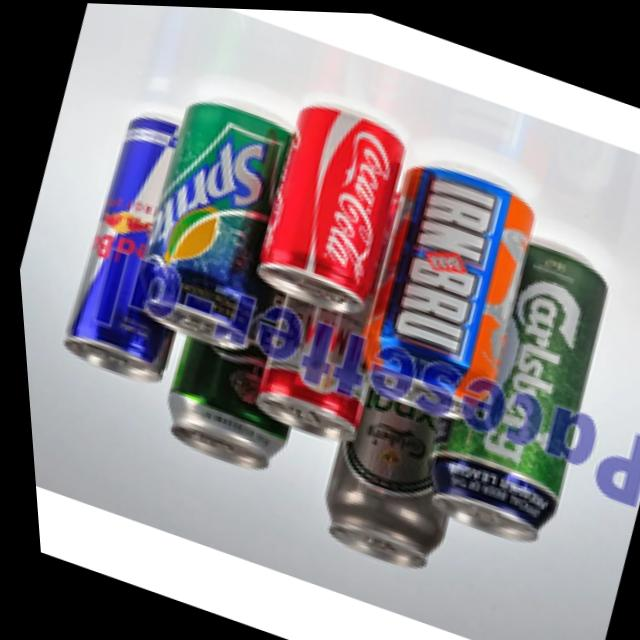aluminum_soda_cans: (332, 149, 555, 426), (436, 239, 624, 546), (39, 104, 229, 385), (115, 92, 305, 351), (236, 94, 418, 327), (307, 391, 461, 573), (239, 338, 365, 444)
